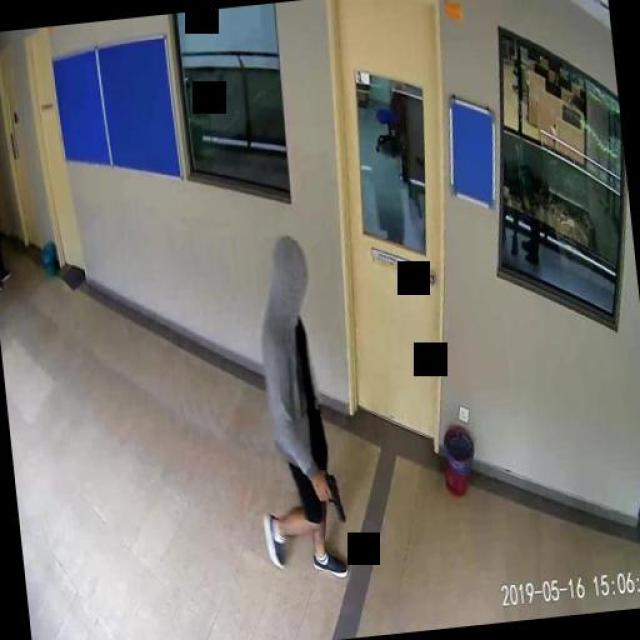gun: (310, 471, 345, 525)
